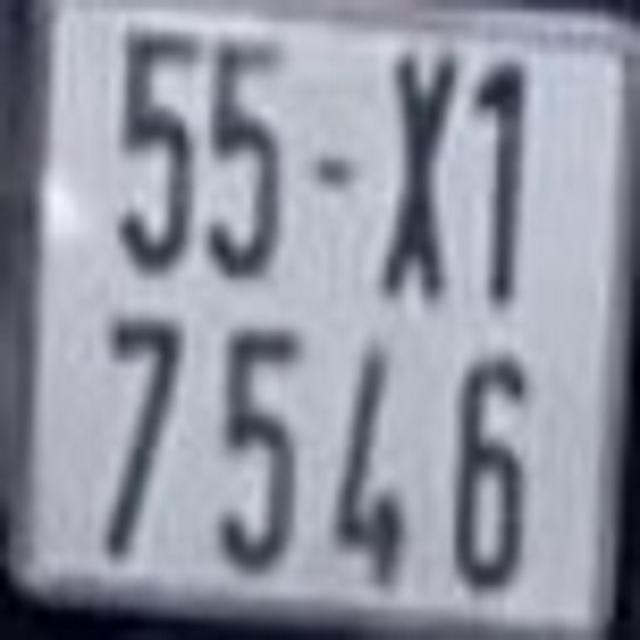1: (475, 57, 522, 306)
4: (342, 344, 406, 589)
5: (120, 19, 196, 271), (223, 328, 301, 569), (212, 38, 285, 278)
6: (450, 352, 524, 583)
7: (105, 314, 186, 559)
X: (389, 49, 456, 305)
